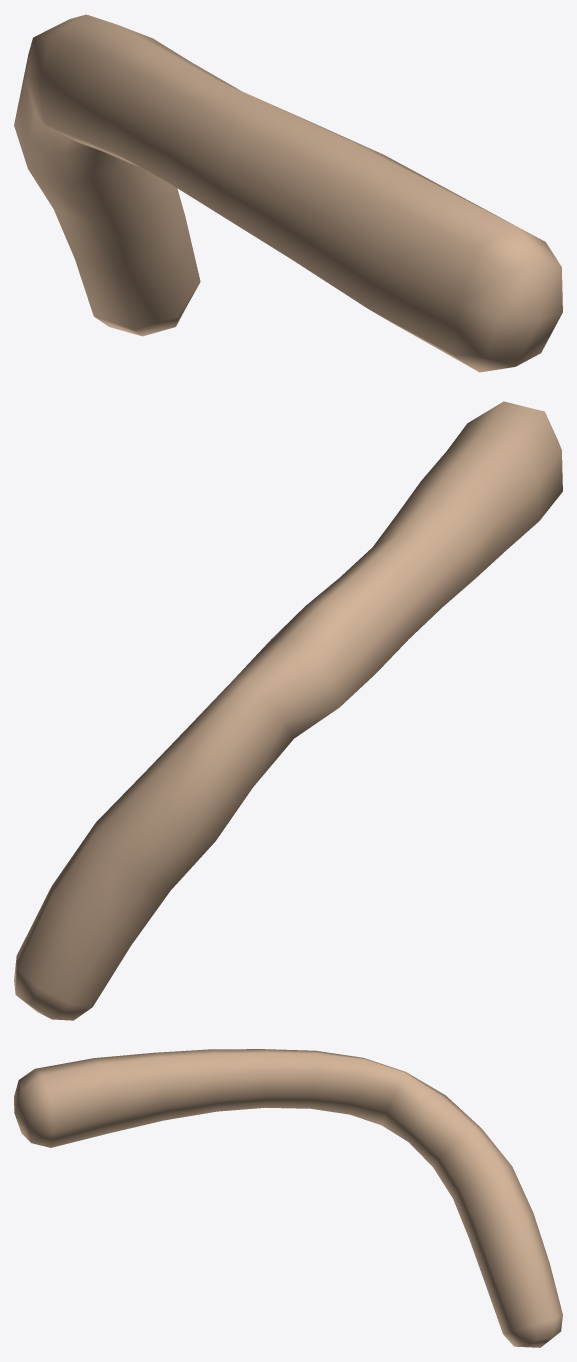
3 views of the same model, one above another, from view 1: azimuth 30°, elevation 25°; view 2: azimuth 150°, elevation 25°; view 3: azimuth 270°, elevation 25° (orthographic). The views are drawn at different scales.
Parts seen in each view (by area): view 1: 左侧趾长屈肌腱鞘; view 2: 左侧趾长屈肌腱鞘; view 3: 左侧趾长屈肌腱鞘.
Boxes of the visible parts, x1=… form: 左侧趾长屈肌腱鞘: x1=14, y1=14, x2=562, y2=372; 左侧趾长屈肌腱鞘: x1=14, y1=401, x2=562, y2=1020; 左侧趾长屈肌腱鞘: x1=14, y1=1049, x2=562, y2=1347.
Bounding box in the file's own units: 0.031 × 0.0495 × 0.098.
